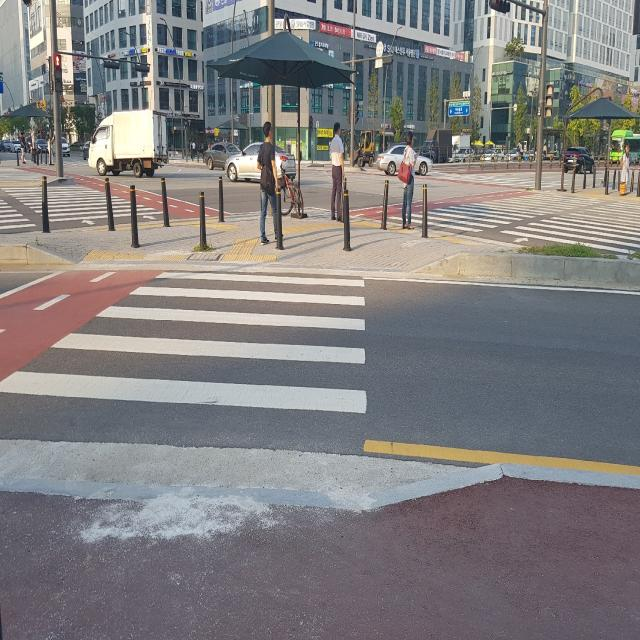빨간불: (54, 54, 62, 92)
횡단보도: (0, 271, 368, 421), (377, 188, 640, 258), (0, 181, 161, 227)
